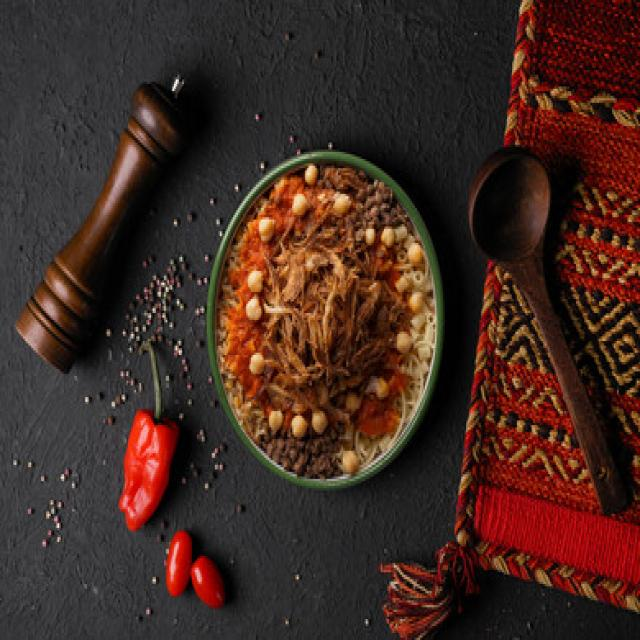felfel: (115, 335, 179, 529)
koshary: (219, 168, 440, 480)
